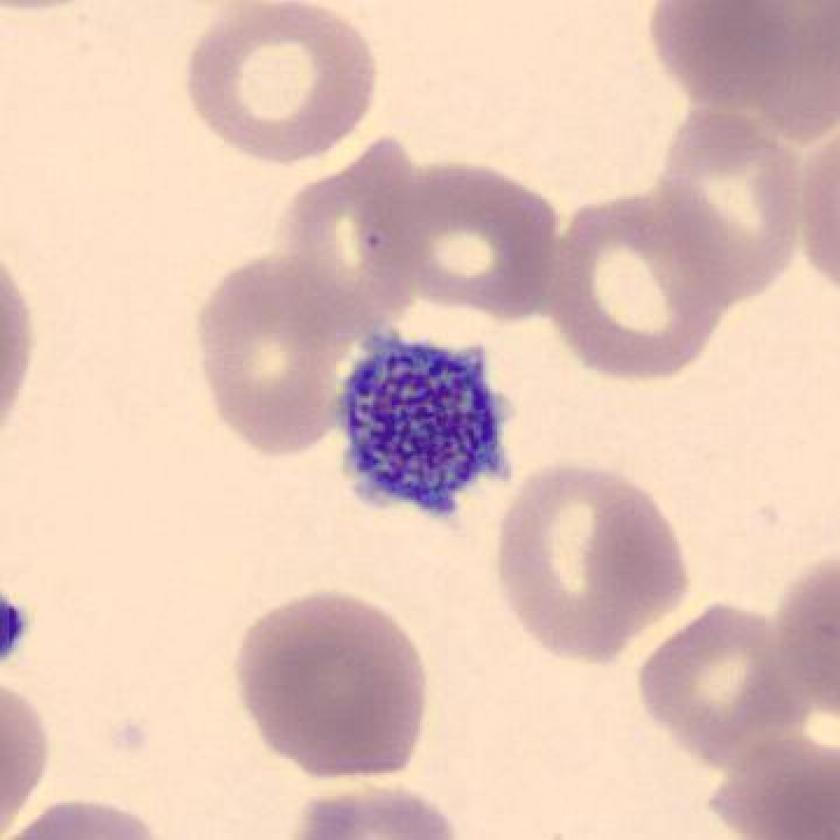platelets: (323, 320, 533, 529)
